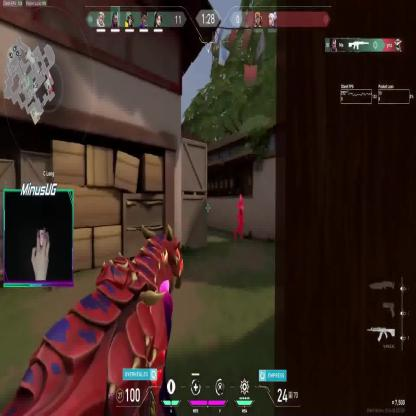enemy: (233, 192, 244, 241)
enemy_head: (238, 194, 243, 204)
